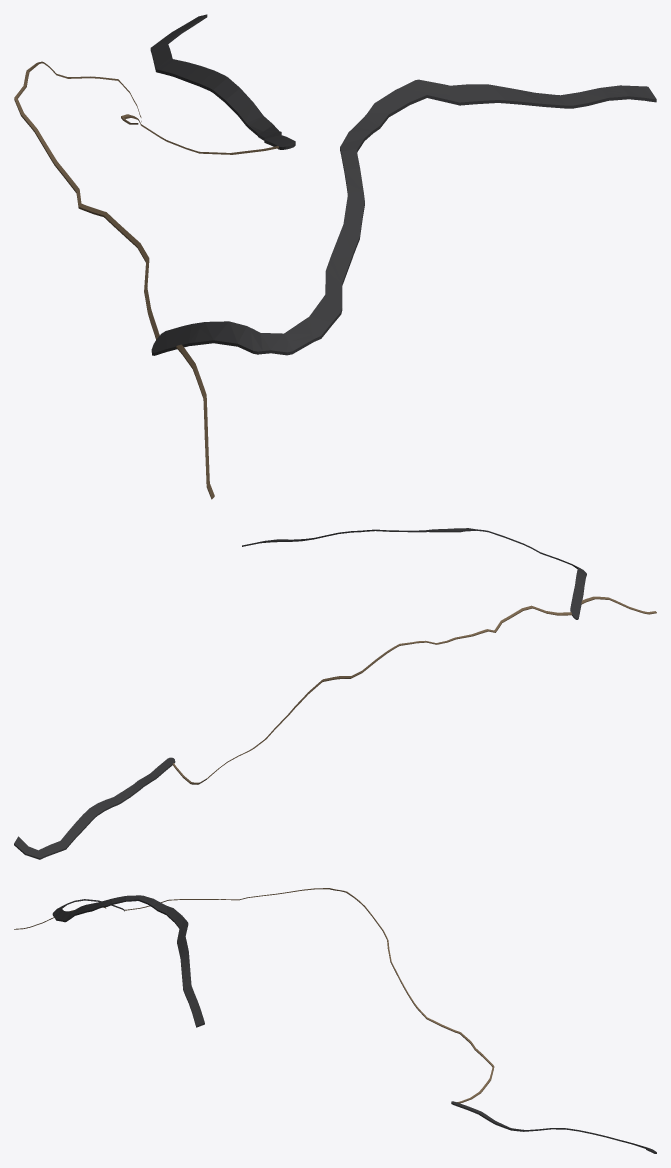
File: 16-54710-29745.afaabca7.glb
3 views of the same model, one above another, from view 1: azimuth 30°, elevation 25°; view 2: azimuth 150°, elevation 25°; view 3: azimuth 270°, elevation 25° (orthographic). The views are drawn at different scales.
Size of the model in its own units: 264 by 145 by 469.
